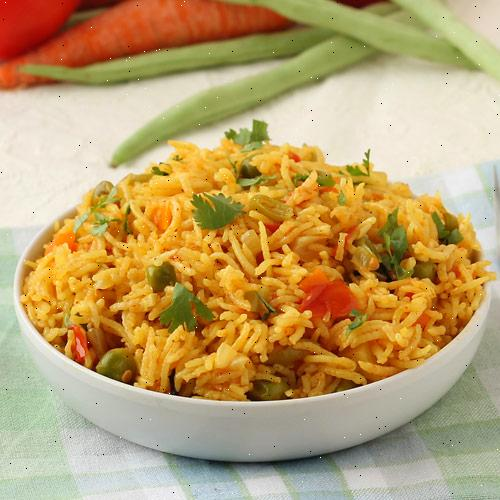veg-pulao: (59, 140, 469, 398)
